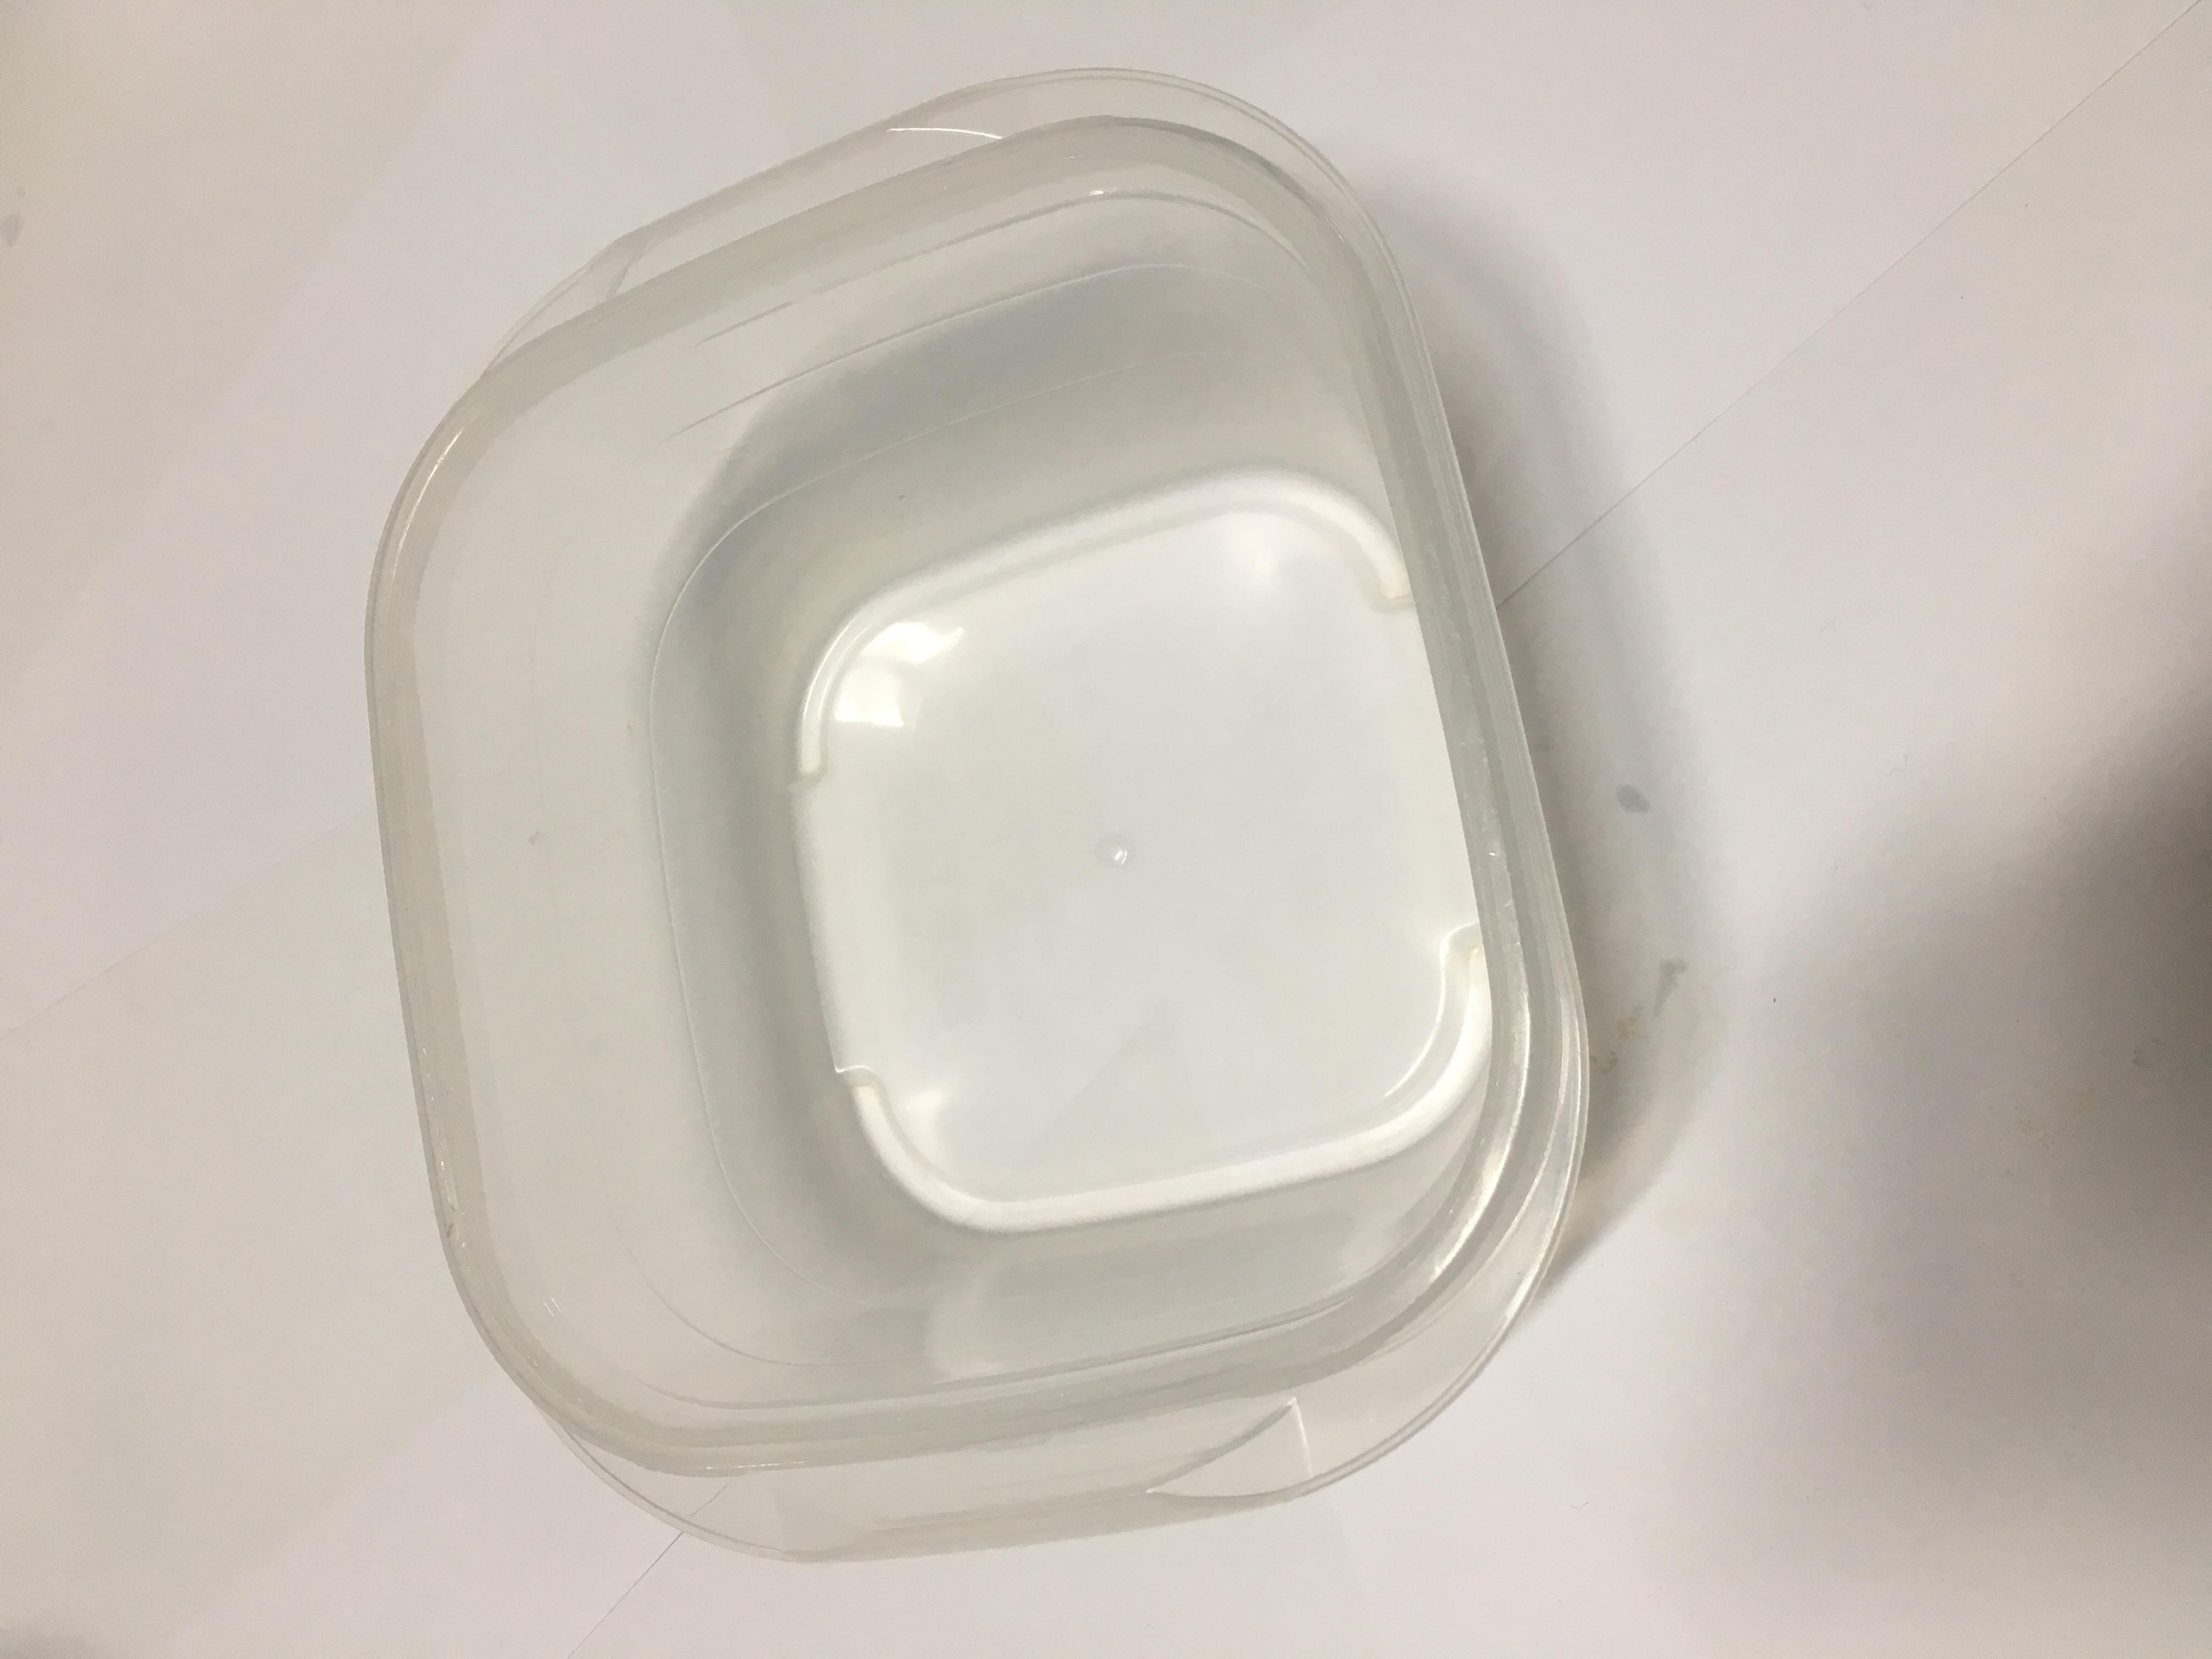bottle: (68, 272, 2212, 1213)
